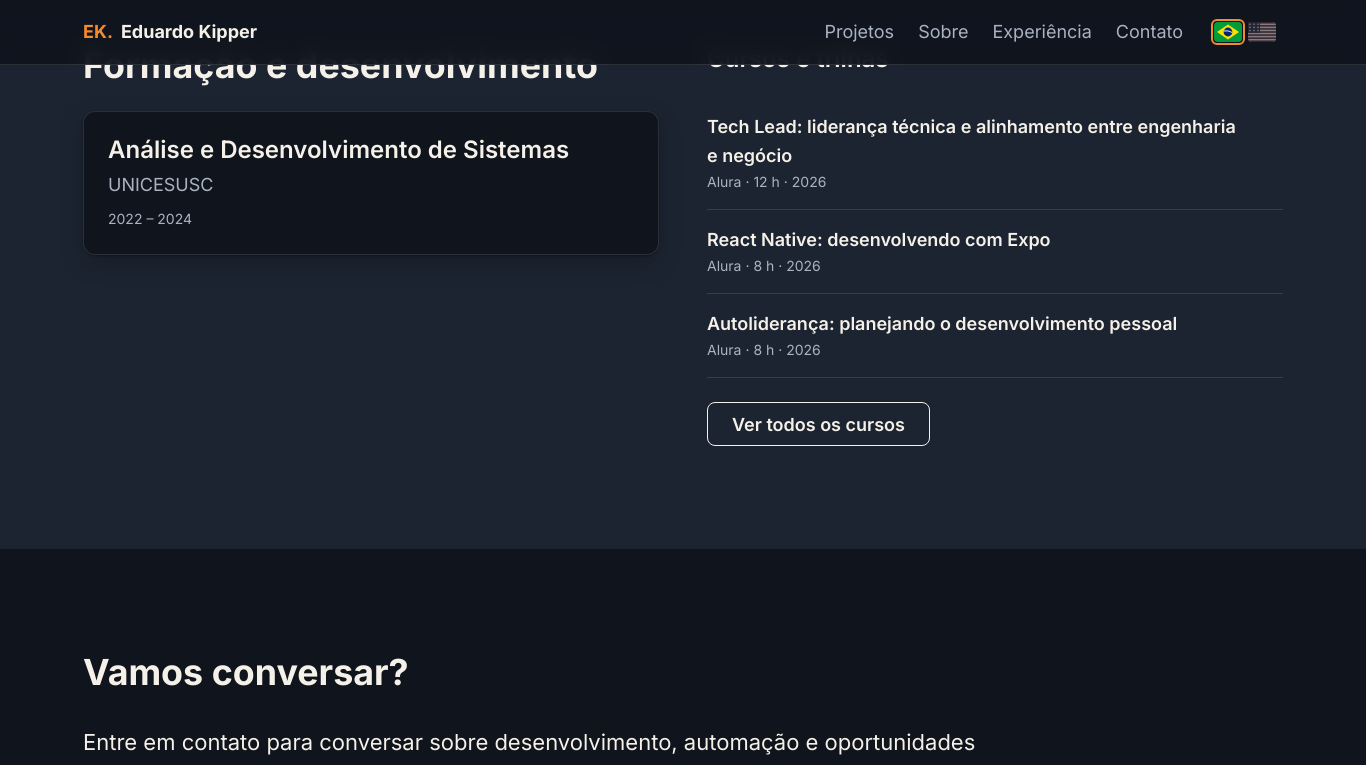
página principal › expande a lista de cursos
The width and height of the screenshot is (1366, 765).
(page scrolled)
Expected: the text "CSS: Flexbox e layouts responsivos" is not shown
Step 1. Click the button "Ver todos os cursos" → {"x": 818, "y": 424}, box x1=707 y1=402 x2=930 y2=446
(page scrolled)
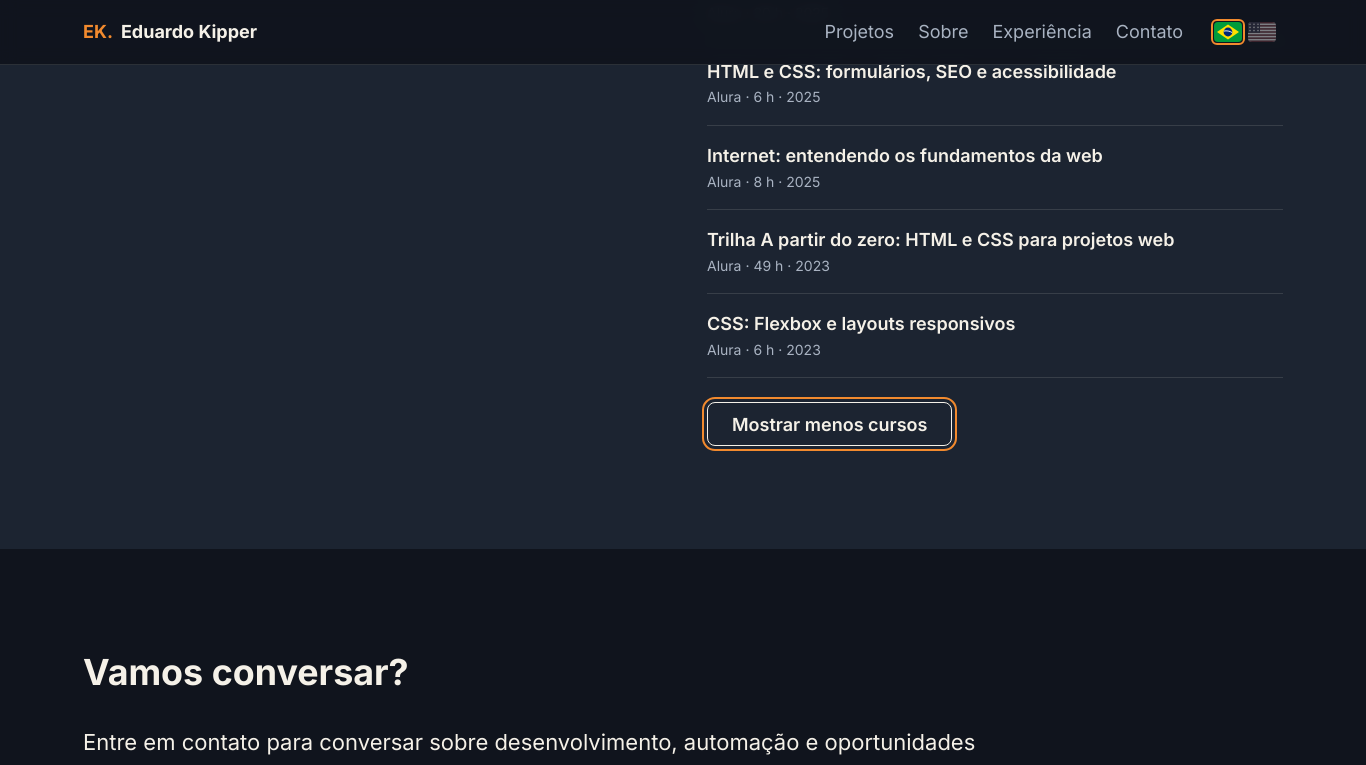
Now the text "CSS: Flexbox e layouts responsivos" is shown, box x1=707 y1=313 x2=1015 y2=334
Now the button named "Ver todos os cursos" is expanded, box x1=707 y1=402 x2=952 y2=446
Now the button named "Ver todos os cursos" reads "Mostrar menos cursos", box x1=707 y1=402 x2=952 y2=446
